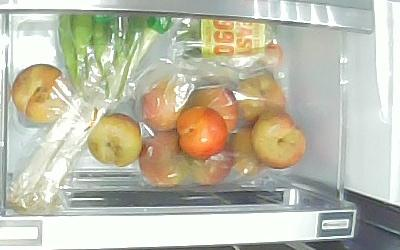prune: (12, 64, 68, 124), (250, 113, 307, 169), (85, 112, 143, 166), (176, 105, 228, 157)
prune_vinyl: (182, 85, 239, 134), (139, 132, 191, 185), (234, 74, 287, 120), (140, 79, 182, 131), (179, 149, 232, 185), (230, 125, 265, 177)
